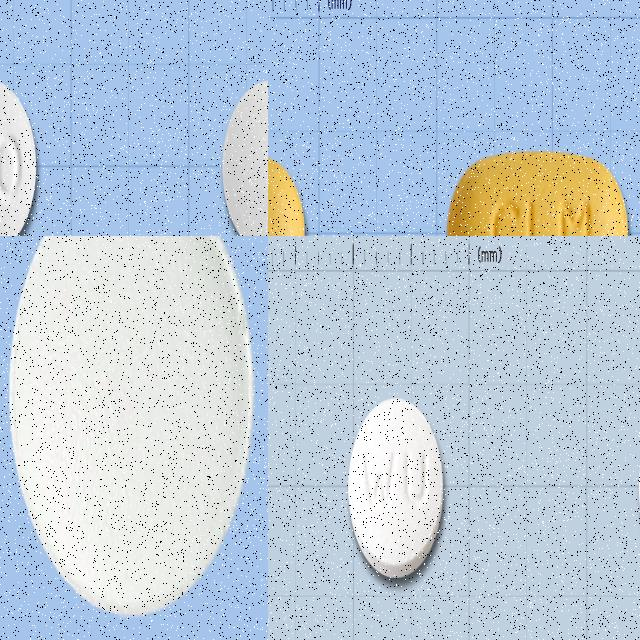Lebofacin: (222, 79, 268, 236), (0, 77, 37, 236)
Levocacin: (6, 236, 255, 617)
Levofloxacin: (347, 397, 445, 580)
Rulid Tab: (445, 148, 629, 236)
